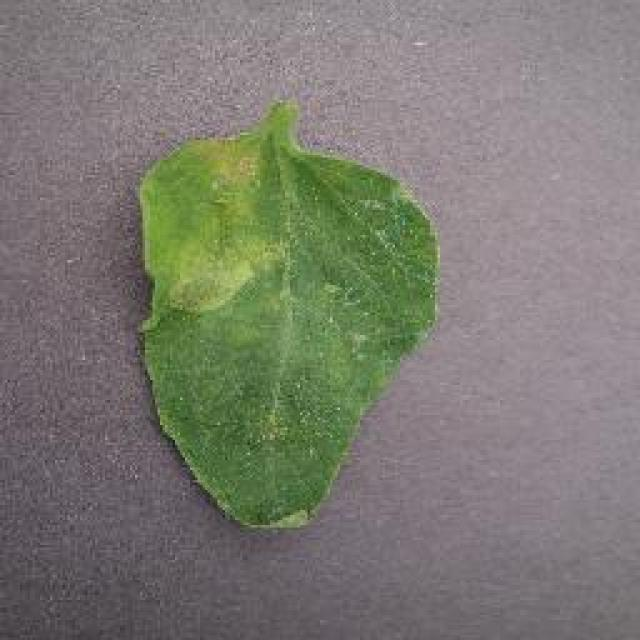Tomato___Late_blight: (138, 104, 440, 528)
